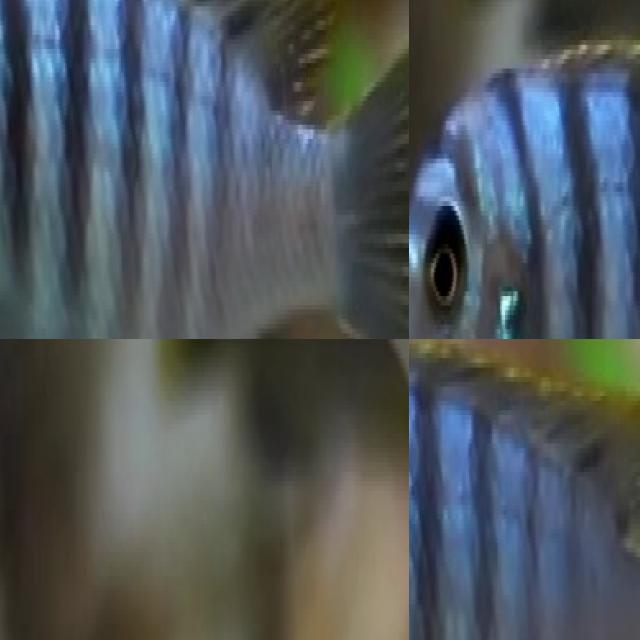fish: (0, 0, 409, 339), (409, 26, 640, 339), (409, 339, 640, 640)
